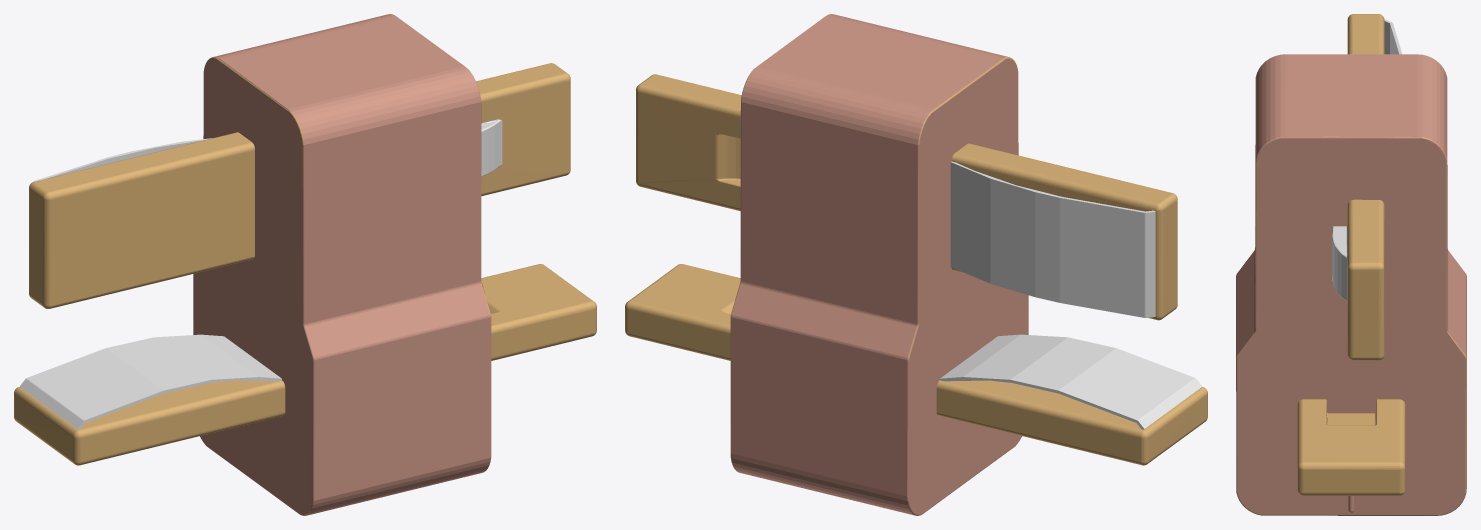
File: Deans-Male.dae
3 renders of one model, left to right at view 1: azimuth 30°, elevation 25°; view 2: azimuth 150°, elevation 25°; view 3: azimuth 270°, elevation 25°, orthographic. The views are drawn at different scales.
Parts seen in each view (by area): view 1: Deans-Male; view 2: Deans-Male; view 3: Deans-Male.
Part boxes in pixels (left/top/right/bottom): Deans-Male: left=14, top=14, right=596, bottom=515; Deans-Male: left=625, top=14, right=1207, bottom=515; Deans-Male: left=1236, top=14, right=1466, bottom=515.
Size of the model in its own units: 18.9 by 7.5 by 13.6.
